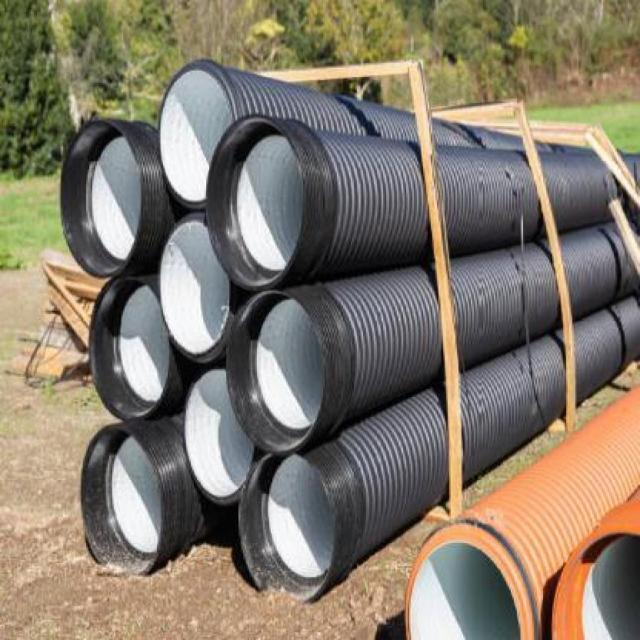pipe: (204, 113, 306, 287), (226, 290, 326, 452), (239, 453, 335, 604), (405, 527, 532, 639), (60, 117, 143, 275), (79, 424, 164, 577), (88, 278, 170, 420), (159, 63, 233, 208), (158, 218, 232, 361), (550, 523, 640, 640), (182, 368, 255, 501)
